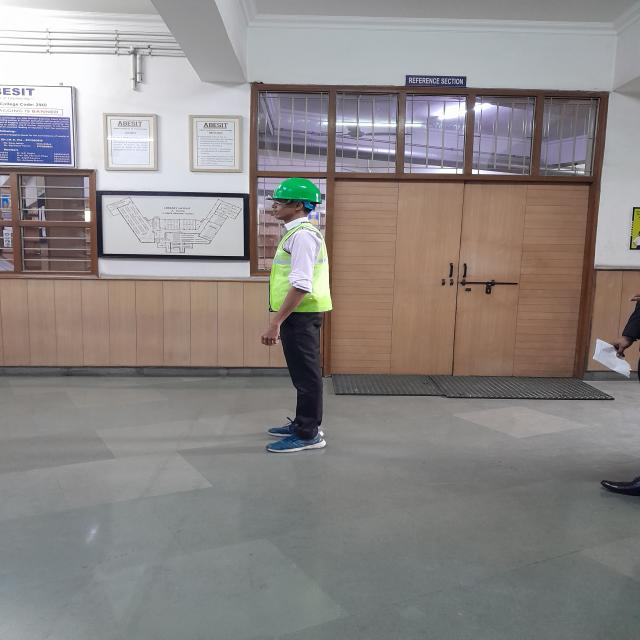safe: (263, 178, 332, 452)
